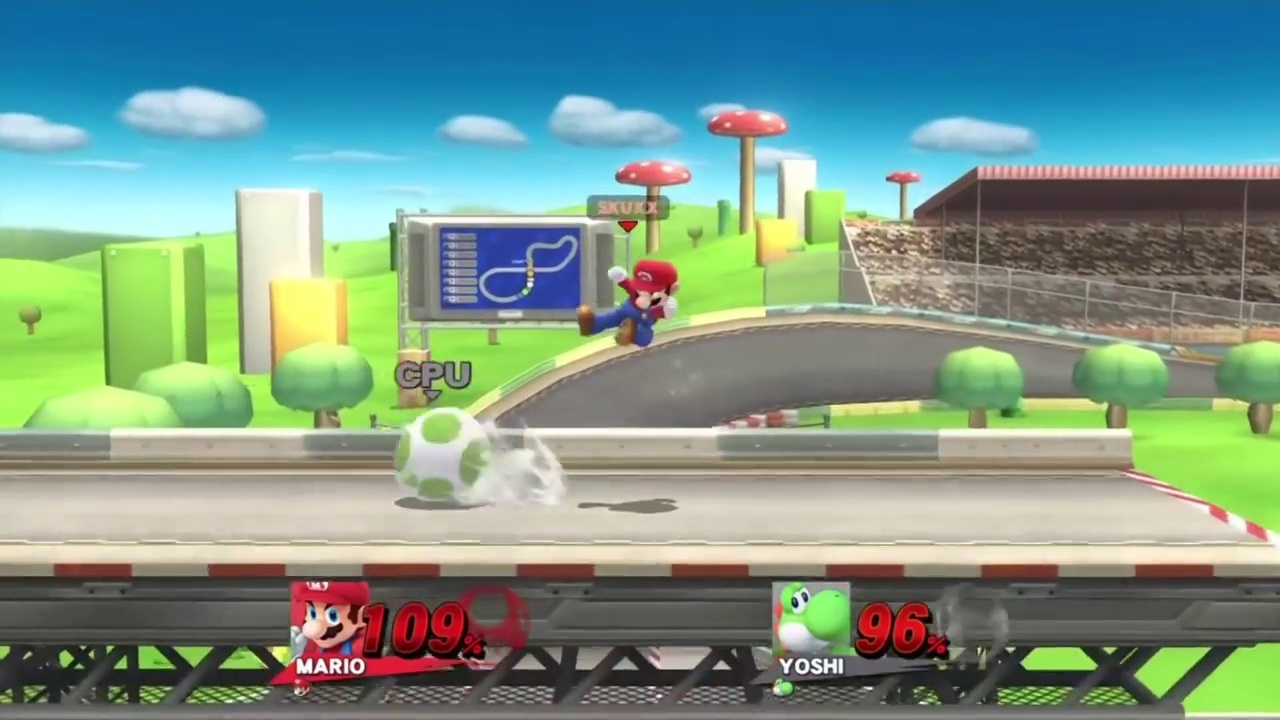Mario: (581, 262, 685, 349)
